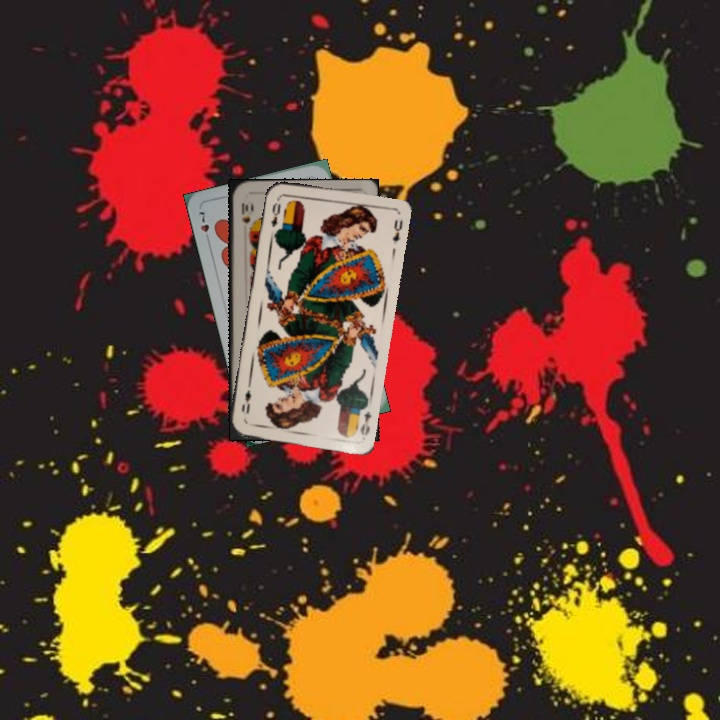EO: (356, 407, 374, 438), (267, 199, 283, 230)
H7: (195, 207, 213, 245)
S10: (238, 199, 252, 227)
